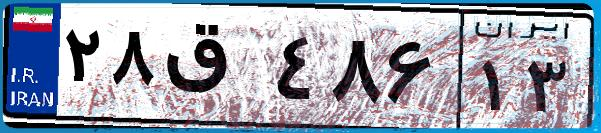1: (475, 38, 525, 113)
2: (57, 26, 110, 100)
3: (525, 38, 570, 115)
4: (270, 28, 330, 110)
6: (385, 28, 445, 110)
8: (330, 28, 385, 110), (110, 28, 158, 98)
ق: (158, 20, 270, 120)
